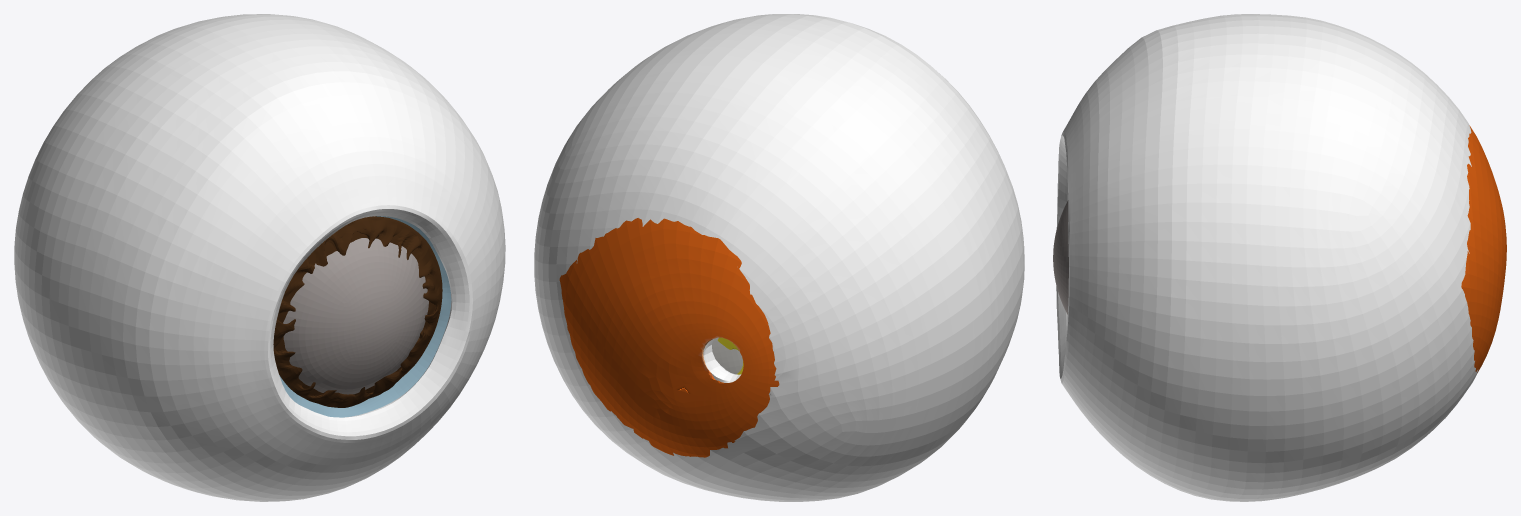
File: hra-eye.glb
The picture shows the model from 3 angles, left to right: view 1: azimuth 30°, elevation 25°; view 2: azimuth 150°, elevation 25°; view 3: azimuth 270°, elevation 25°; orthographic projection.
Visible parts, largest first — view 1: VH_M_sclera_L, VH_M_fovea_L, VH_M_retina_L; view 2: VH_M_sclera_L, VH_M_fovea_L; view 3: VH_M_sclera_L, VH_M_fovea_L.
Part boxes in pixels (box(x1,y1,x2,y2)): VH_M_sclera_L: box(14, 14, 505, 501); VH_M_fovea_L: box(279, 216, 451, 417); VH_M_retina_L: box(273, 216, 442, 407); VH_M_sclera_L: box(534, 14, 1024, 501); VH_M_fovea_L: box(559, 218, 779, 457); VH_M_sclera_L: box(1056, 14, 1478, 501); VH_M_fovea_L: box(1053, 125, 1506, 372).
Bounding box in the file's own units: 801 × 800 × 747.
Materials: 6 (6 with a texture image).
